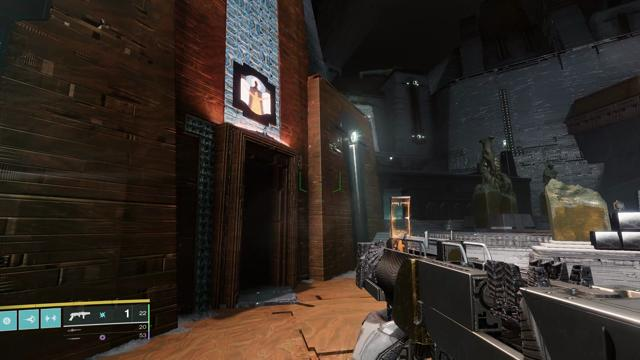brain: (241, 75, 270, 115)
